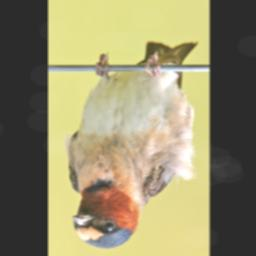Swallow: (63, 39, 198, 249)
